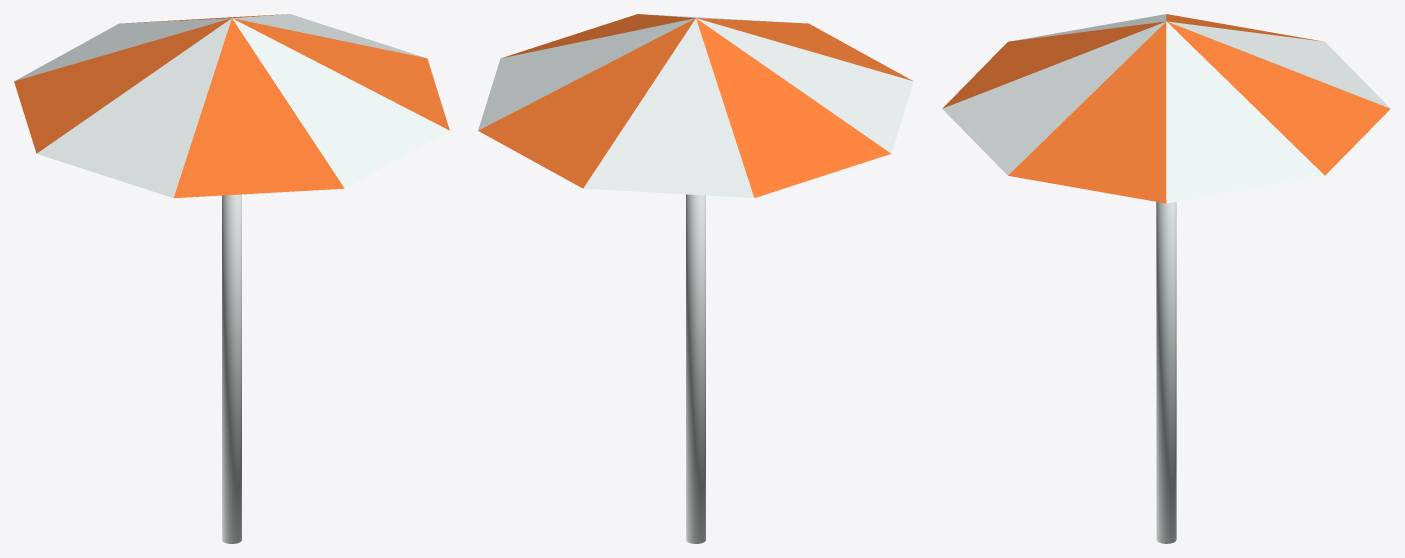
The model's file is Beach_umbrella.glb.
3 renders of one model, left to right at view 1: azimuth 30°, elevation 25°; view 2: azimuth 150°, elevation 25°; view 3: azimuth 270°, elevation 25°, orthographic.
Visible parts, largest first — view 1: Canopy panel.005, Canopy panel.004, Canopy panel.006, Canopy panel.003, Umbrella pole, Canopy panel.007, Canopy panel.002, Canopy panel; view 2: Canopy panel.002, Canopy panel.003, Canopy panel.001, Canopy panel.004, Umbrella pole, Canopy panel, Canopy panel.005, Canopy panel.007; view 3: Canopy panel, Canopy panel.007, Canopy panel.001, Canopy panel.006, Umbrella pole, Canopy panel.002, Canopy panel.005, Canopy panel.003, Canopy panel.004.
Boxes of the visible parts, bbox=[...] form: Canopy panel.005: bbox=[174, 18, 344, 198]; Canopy panel.004: bbox=[37, 18, 231, 197]; Canopy panel.006: bbox=[232, 18, 449, 188]; Canopy panel.003: bbox=[14, 18, 231, 153]; Umbrella pole: bbox=[222, 194, 241, 543]; Canopy panel.007: bbox=[233, 18, 449, 130]; Canopy panel.002: bbox=[15, 18, 230, 80]; Canopy panel: bbox=[232, 14, 426, 58]; Canopy panel.002: bbox=[583, 18, 753, 198]; Canopy panel.003: bbox=[696, 18, 890, 197]; Canopy panel.001: bbox=[478, 18, 695, 188]; Canopy panel.004: bbox=[696, 18, 913, 153]; Umbrella pole: bbox=[686, 194, 705, 543]; Canopy panel: bbox=[478, 18, 694, 130]; Canopy panel.005: bbox=[697, 18, 912, 80]; Canopy panel.007: bbox=[501, 14, 695, 58]; Canopy panel: bbox=[1166, 21, 1324, 203]; Canopy panel.007: bbox=[1008, 22, 1166, 203]; Canopy panel.001: bbox=[1167, 21, 1390, 175]; Canopy panel.006: bbox=[942, 21, 1165, 175]; Umbrella pole: bbox=[1156, 202, 1176, 543]; Canopy panel.002: bbox=[1167, 21, 1390, 108]; Canopy panel.005: bbox=[942, 21, 1165, 108]; Canopy panel.003: bbox=[1166, 14, 1323, 41]; Canopy panel.004: bbox=[1009, 14, 1166, 41].
Bounding box in the file's own units: 2 × 2.55 × 2.
